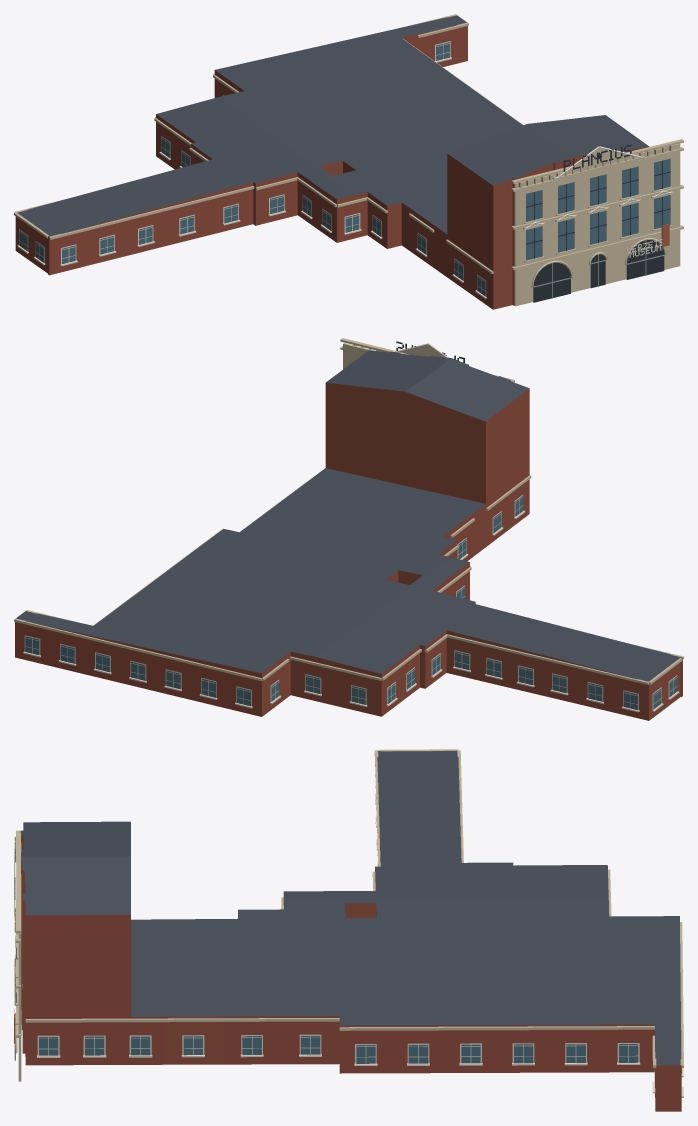
The model's file is dutch-resistance-museum.glb.
3 views of the same model, one above another, from view 1: azimuth 30°, elevation 25°; view 2: azimuth 150°, elevation 25°; view 3: azimuth 270°, elevation 25° (orthographic). The views are drawn at different scales.
Parts seen in each view (by area): view 1: dutch-resistance-museum; view 2: dutch-resistance-museum; view 3: dutch-resistance-museum.
Part boxes in pixels (box(x1,y1,x2,y2)): dutch-resistance-museum: box(14, 14, 683, 309); dutch-resistance-museum: box(14, 338, 683, 720); dutch-resistance-museum: box(14, 749, 683, 1111).
Size of the model in its own units: 71.11 by 17.89 by 63.7.
